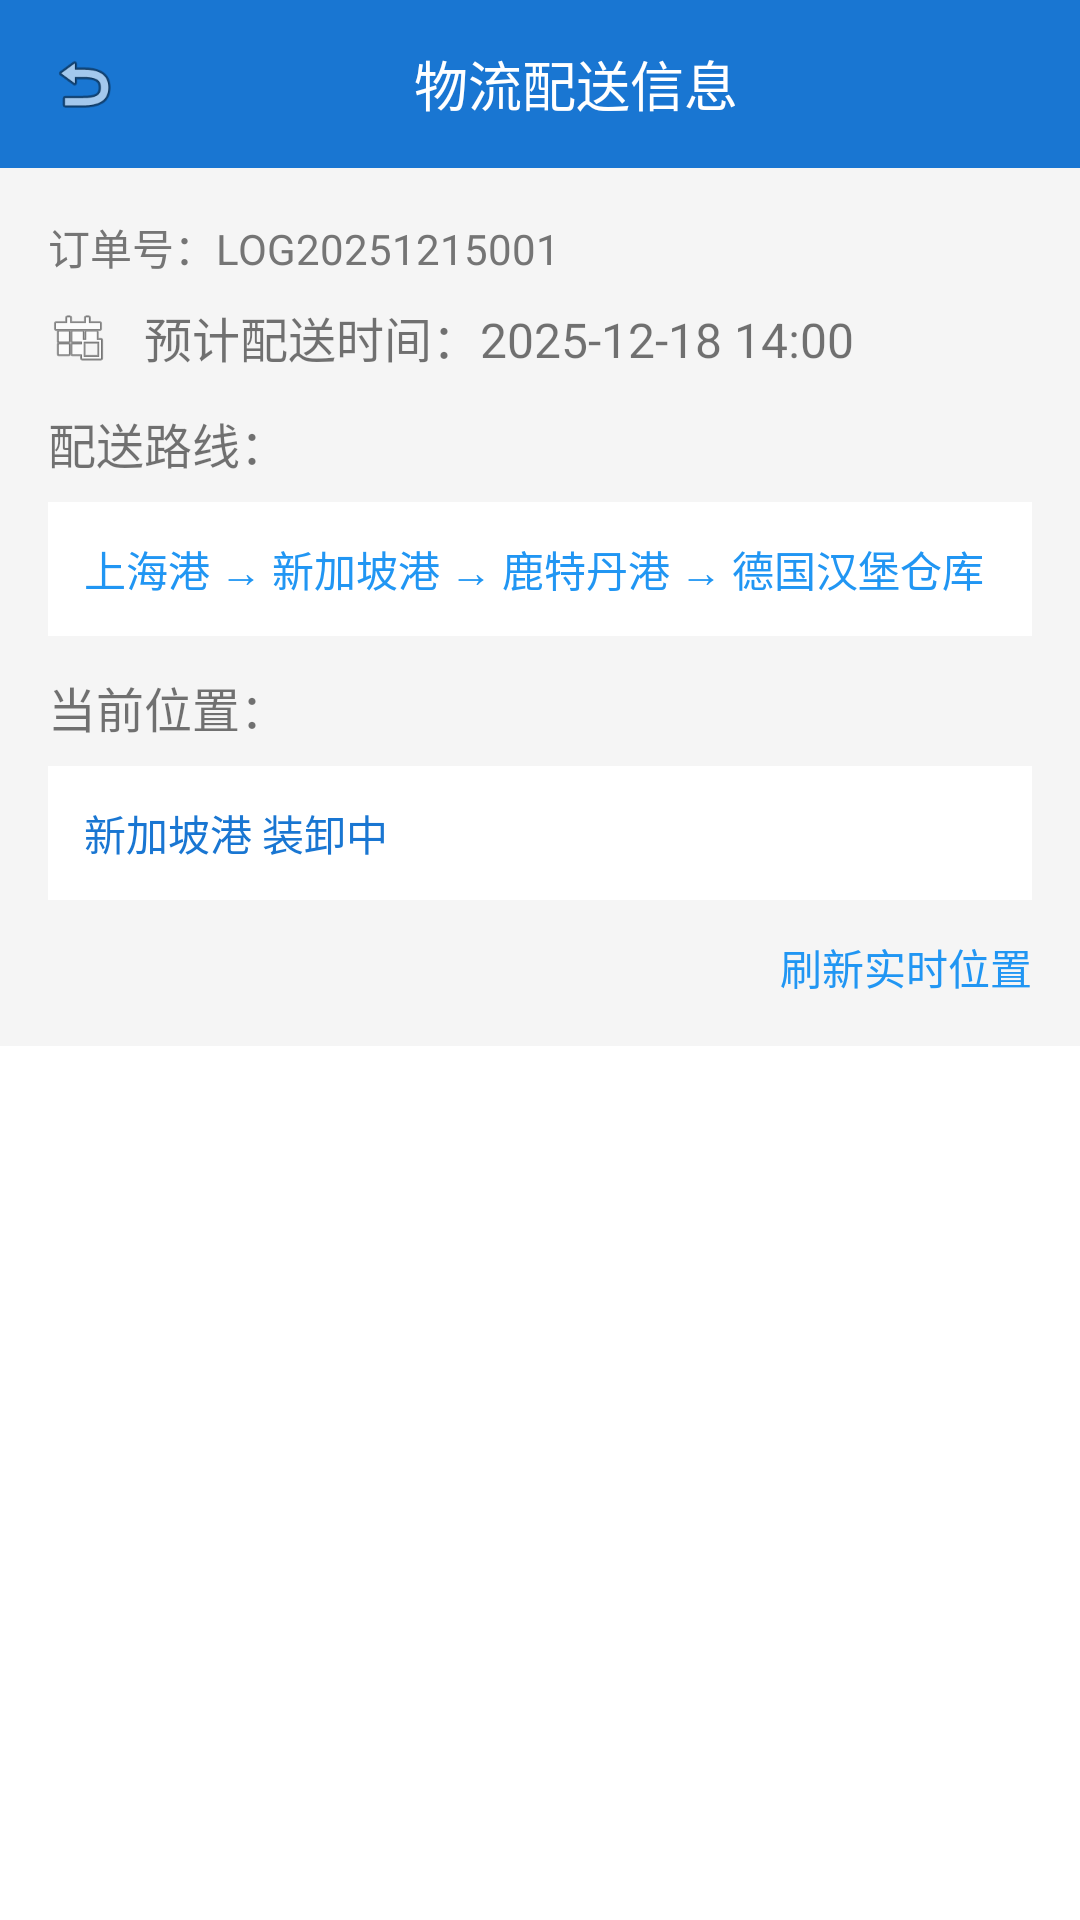

Screen size 1080x1920. Icon name, then its box in pixels as {"left": x1, "top": y1, "right": x2, "bottom": y2}:
revert: {"left": 59, "top": 61, "right": 111, "bottom": 108}
today: {"left": 54, "top": 315, "right": 103, "bottom": 361}
